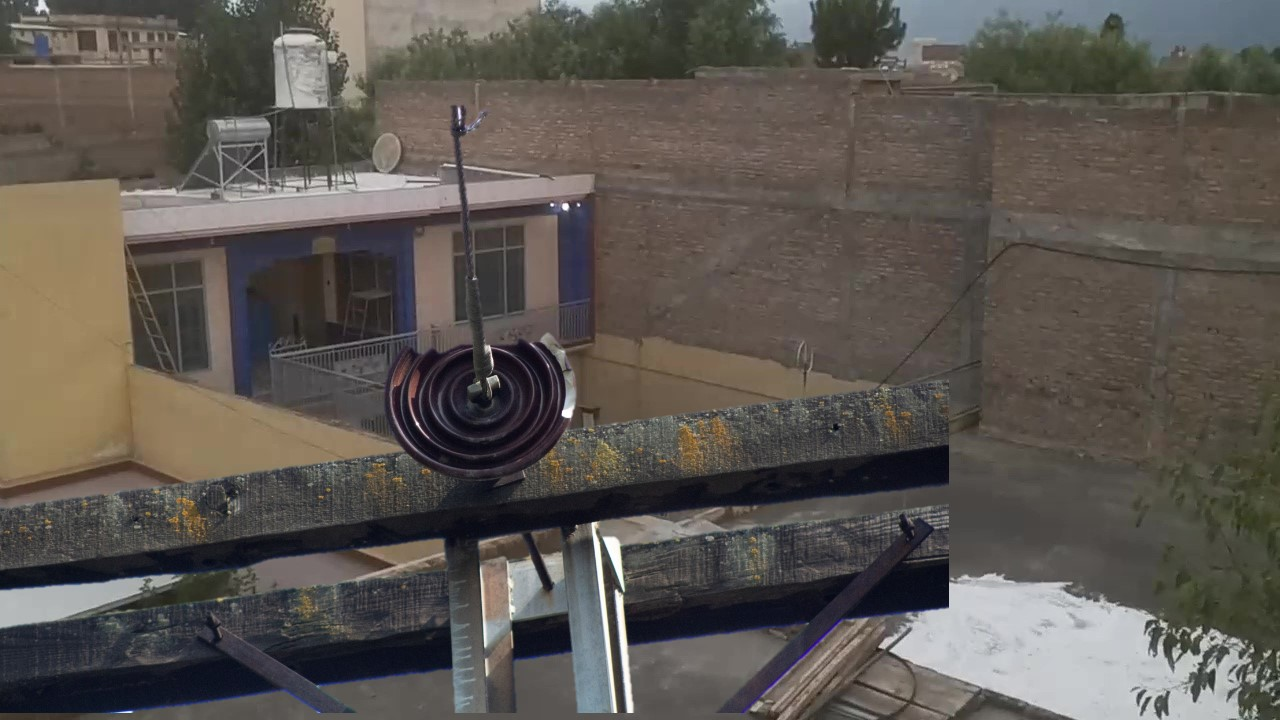defect_disc: (379, 325, 585, 485)
